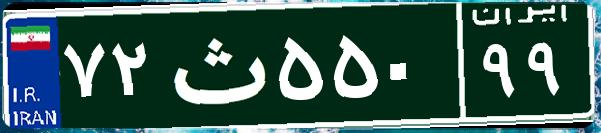0: (385, 28, 445, 110)
2: (110, 28, 158, 105)
5: (273, 28, 330, 110), (330, 28, 385, 110)
7: (57, 26, 110, 107)
9: (475, 38, 525, 113), (525, 38, 570, 115)
ث: (158, 15, 273, 115)
